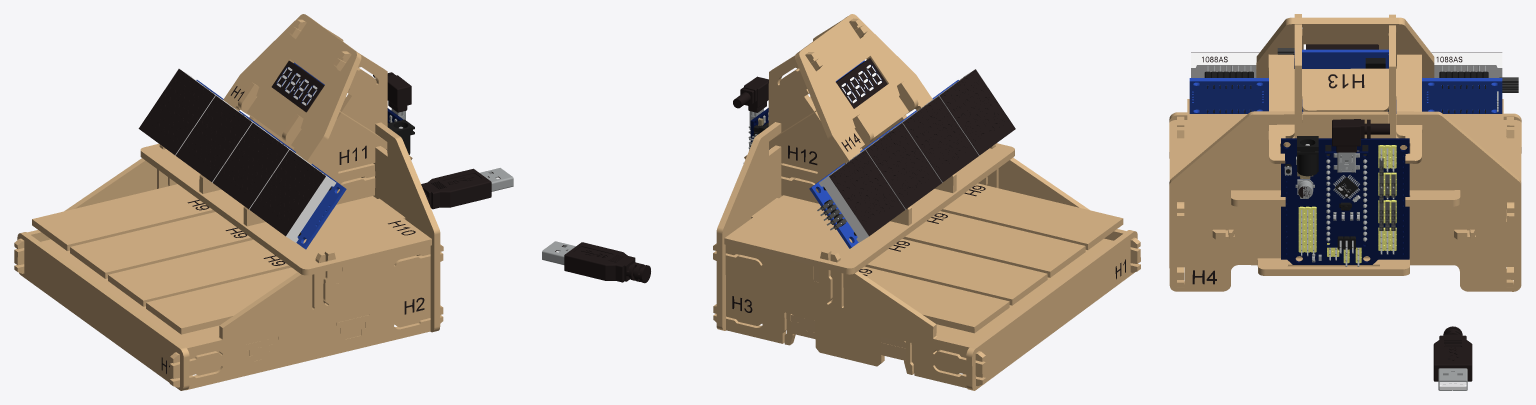
The picture shows the model from 3 angles, left to right: view 1: azimuth 30°, elevation 25°; view 2: azimuth 150°, elevation 25°; view 3: azimuth 270°, elevation 25°; orthographic projection. The views are drawn at different scales.
Parts seen in each view (by area): view 1: NAUO65, NAUO64, NAUO74, NAUO63, NAUO62, NAUO71, NAUO72, NAUO70, NAUO73, NAUO69, NAUO375, NAUO373 (+11 smaller); view 2: NAUO66, NAUO64, NAUO74, NAUO63, NAUO77, NAUO70, NAUO71, NAUO69, NAUO73, NAUO72, NAUO360, NAUO373 (+9 smaller); view 3: NAUO73, NAUO75, NAUO297, NAUO64, NAUO358, NAUO74, NANO, NAUO283, NAUO67, NAUO79, NAUO360, NAUO282 (+14 smaller).
Part boxes in pixels (bbox=[...]): NAUO65: bbox=[169, 244, 443, 390]; NAUO64: bbox=[140, 143, 431, 275]; NAUO74: bbox=[223, 14, 361, 164]; NAUO63: bbox=[17, 232, 189, 390]; NAUO62: bbox=[243, 51, 387, 226]; NAUO71: bbox=[70, 212, 253, 278]; NAUO72: bbox=[32, 184, 215, 250]; NAUO70: bbox=[108, 239, 291, 306]; NAUO73: bbox=[345, 97, 440, 332]; NAUO69: bbox=[146, 267, 297, 334]; NAUO375: bbox=[249, 150, 336, 242]; NAUO373: bbox=[175, 96, 260, 182]; NAUO66: bbox=[713, 243, 985, 388]; NAUO64: bbox=[724, 143, 1014, 274]; NAUO74: bbox=[795, 14, 932, 163]; NAUO63: bbox=[966, 230, 1137, 390]; NAUO77: bbox=[768, 52, 911, 225]; NAUO70: bbox=[902, 211, 1085, 277]; NAUO71: bbox=[865, 239, 1047, 305]; NAUO69: bbox=[940, 183, 1123, 249]; NAUO73: bbox=[716, 96, 812, 330]; NAUO72: bbox=[858, 266, 1009, 333]; NAUO360: bbox=[819, 150, 905, 242]; NAUO373: bbox=[857, 123, 941, 209]; NAUO73: bbox=[1169, 111, 1521, 291]; NAUO75: bbox=[1268, 54, 1421, 163]; NAUO297: bbox=[1281, 138, 1409, 264]; NAUO64: bbox=[1169, 120, 1521, 206]; NAUO358: bbox=[1189, 78, 1502, 113]; NAUO74: bbox=[1256, 17, 1434, 77]; NANO: bbox=[1325, 150, 1368, 253]; NAUO283: bbox=[1433, 326, 1472, 390]; NAUO67: bbox=[1225, 209, 1506, 275]; NAUO79: bbox=[1294, 44, 1388, 68]; NAUO360: bbox=[1431, 52, 1502, 77]; NAUO282: bbox=[1332, 119, 1389, 164].
Size of the model in its own units: 235 by 119 by 146.
